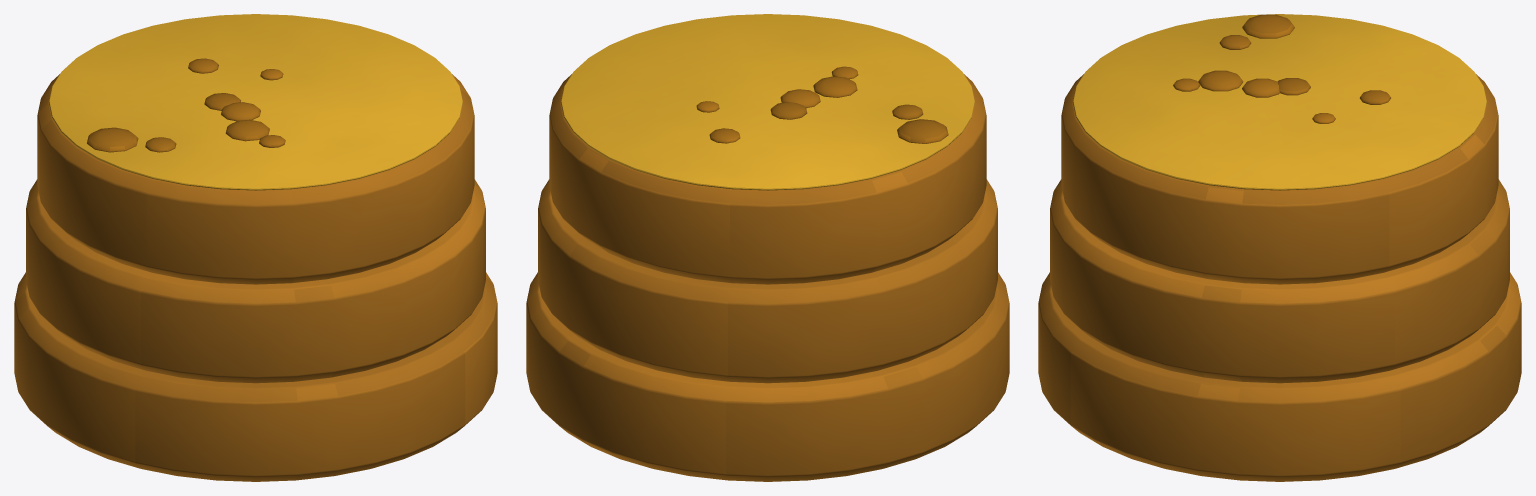
The model's file is prop_cheese_stack.glb.
3 views of the same model, side by side, from view 1: azimuth 30°, elevation 25°; view 2: azimuth 150°, elevation 25°; view 3: azimuth 270°, elevation 25° (orthographic).
Visible parts, largest first — view 1: prop_cheese_stack; view 2: prop_cheese_stack; view 3: prop_cheese_stack.
Boxes of the visible parts, x1,y1,x2,y2 form: prop_cheese_stack: [14, 14, 497, 481]; prop_cheese_stack: [526, 14, 1009, 481]; prop_cheese_stack: [1038, 14, 1521, 481].
Bounding box in the file's own units: 0.84 × 0.5601 × 0.84.
Materials: 3 (3 with a texture image).
